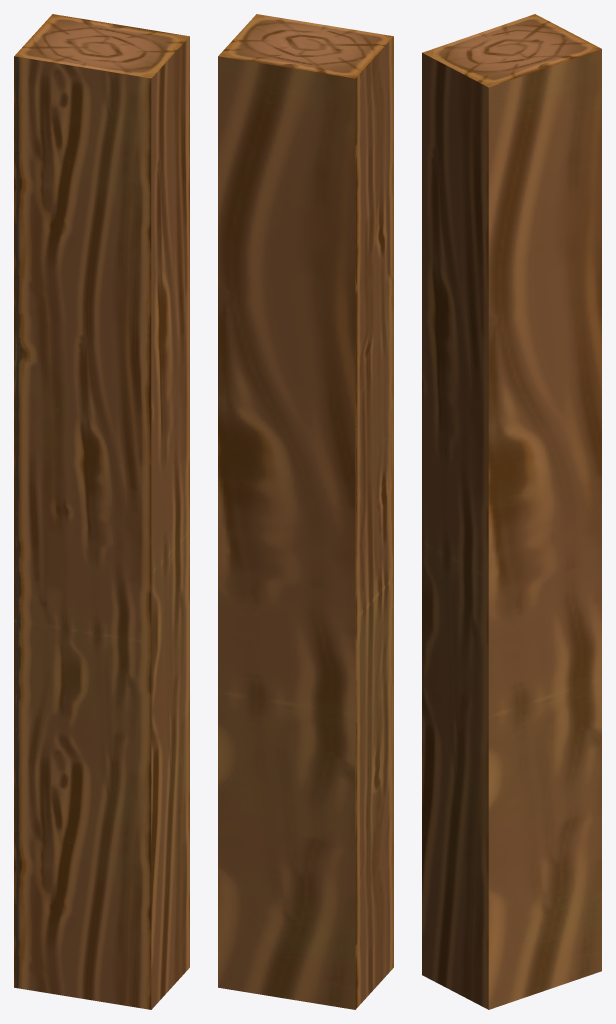
3 renders of one model, left to right at view 1: azimuth 30°, elevation 25°; view 2: azimuth 210°, elevation 25°; view 3: azimuth 270°, elevation 25°, orthographic.
Parts seen in each view (by area): view 1: Cube.634; view 2: Cube.634; view 3: Cube.634.
Boxes of the visible parts, x1,y1,x2,y2 form: Cube.634: (14, 14, 189, 1009); Cube.634: (218, 14, 393, 1009); Cube.634: (422, 14, 601, 1009).
Size of the model in its own units: 117 by 683 by 121.
Materials: 1 (1 with a texture image).
